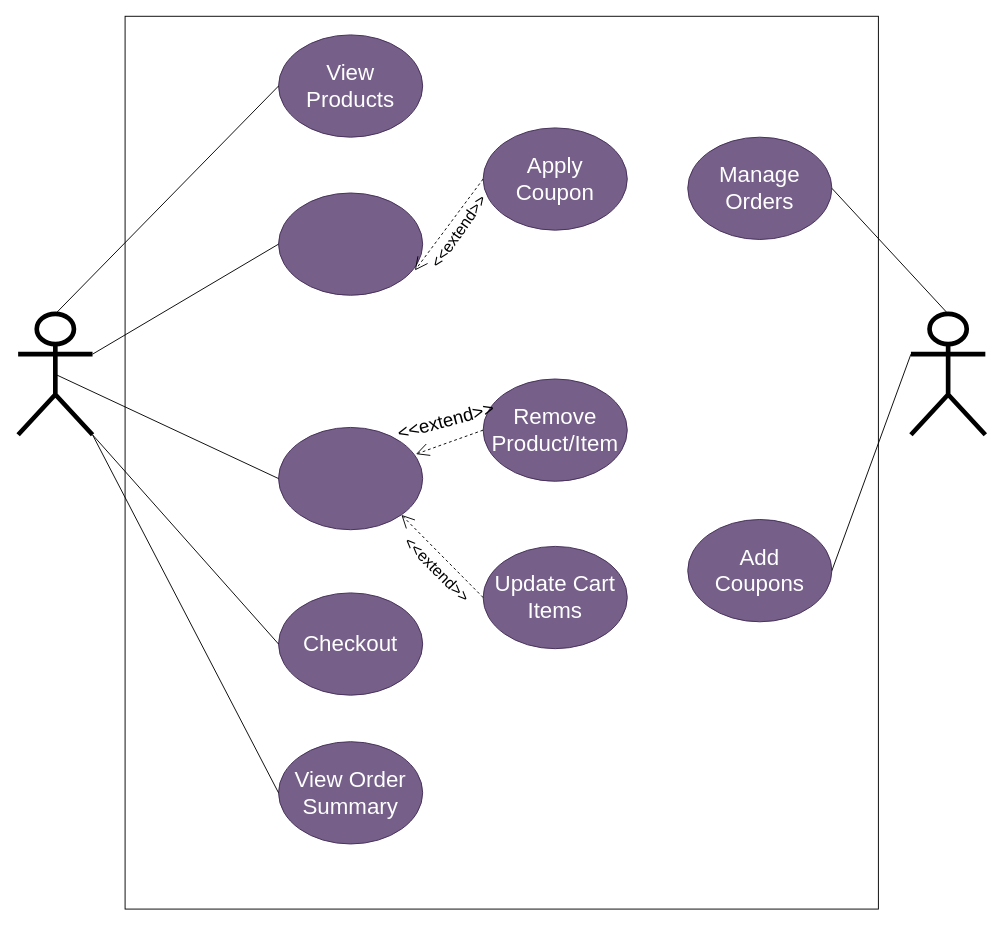
Image size: 1003x925. Some labels were removed from this diagram. Each missing label, with the centre of its shape:
"Add to Cart" belongs at point (350, 478).
"Admin" belongs at point (947, 374).
"Select Product" belongs at point (350, 243).
"User" belongs at point (54, 374).
